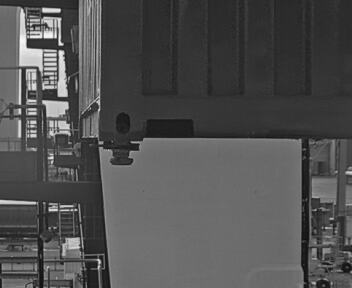twist_lock_1: (97, 132, 143, 170)
